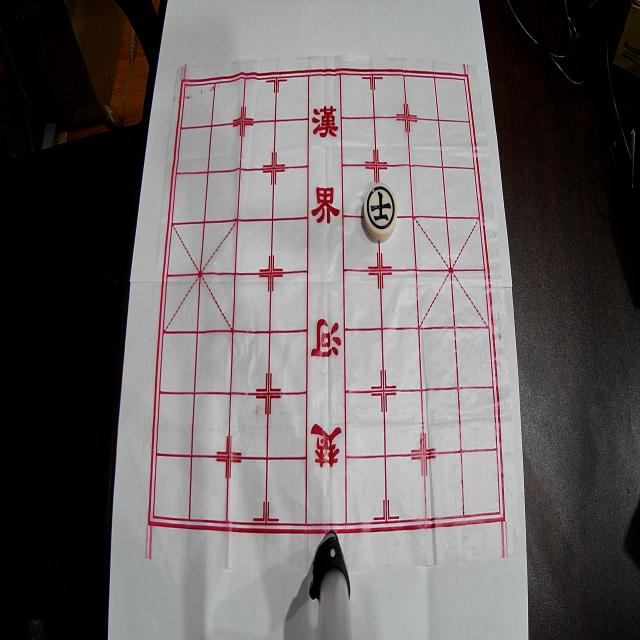black-guard: (363, 183, 398, 241)
